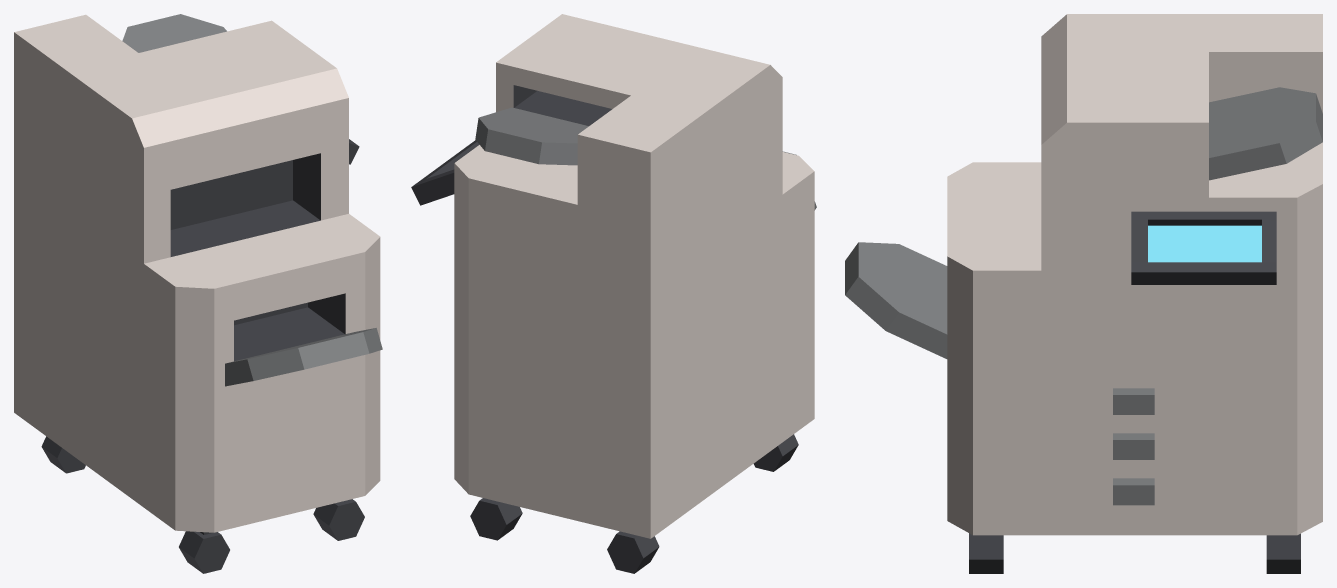
The model's file is bigprinter3BROKEN.fbx.
3 renders of one model, left to right at view 1: azimuth 30°, elevation 25°; view 2: azimuth 150°, elevation 25°; view 3: azimuth 270°, elevation 25°, orthographic. The views are drawn at different scales.
Parts seen in each view (by area): view 1: printer1.002; view 2: printer1.002; view 3: printer1.002.
Boxes of the visible parts, x1,y1,x2,y2 form: printer1.002: [14, 14, 382, 573]; printer1.002: [411, 14, 816, 573]; printer1.002: [845, 14, 1322, 573].
Bounding box in the file's own units: 111 × 177 × 164.
